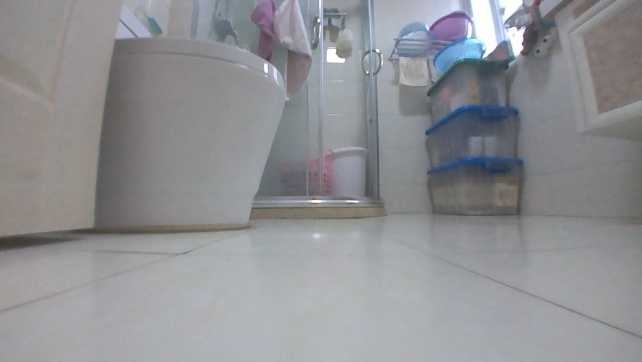door_sill: (256, 194, 386, 218)
toilet: (95, 5, 286, 234)
